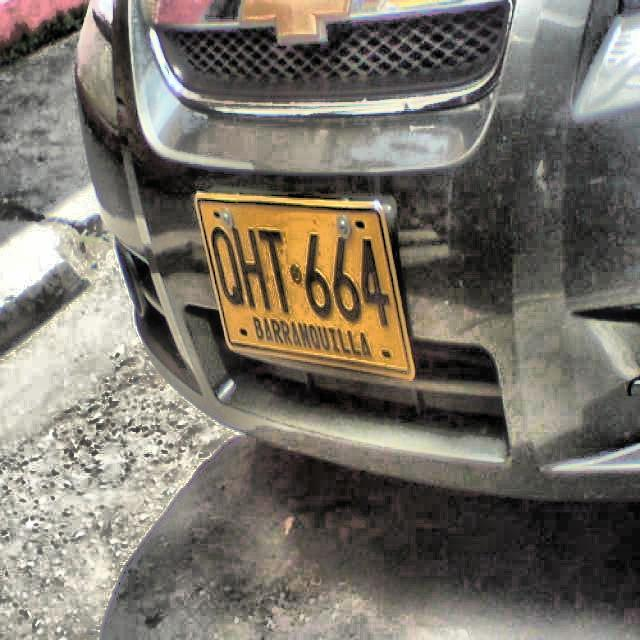plate: (197, 200, 411, 376)
